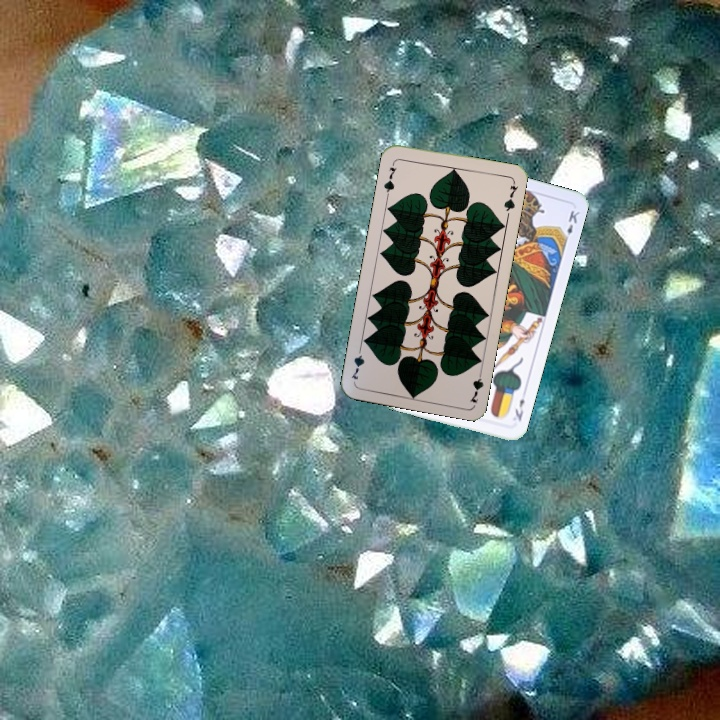EK: (511, 395, 527, 424)
G7: (466, 365, 486, 405), (380, 157, 399, 198)
